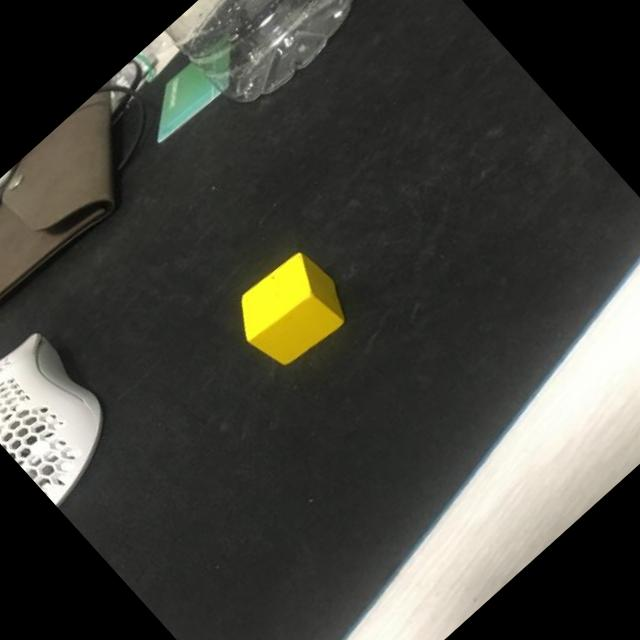yellow: (222, 242, 360, 379)
